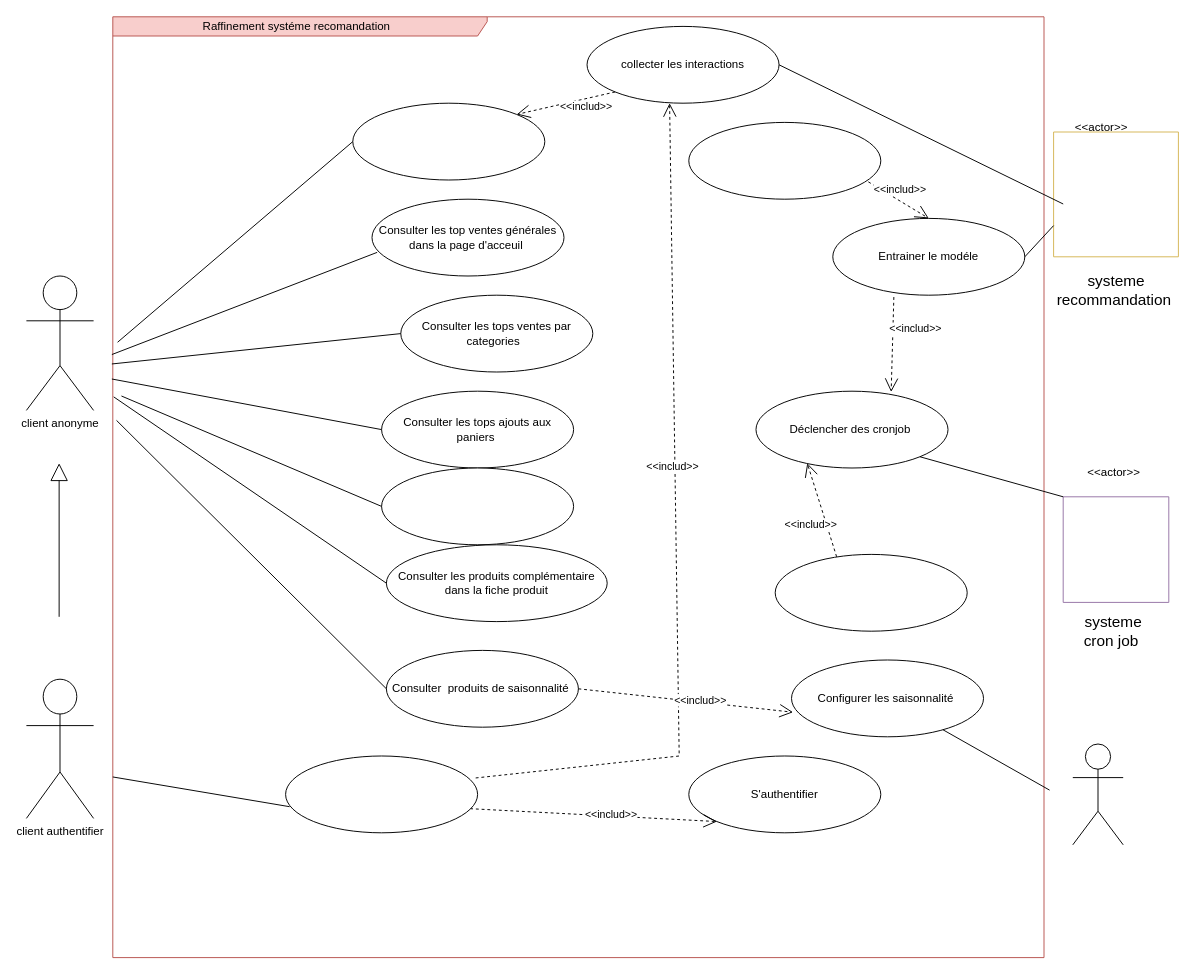
The diagram is 1195 pixels wide and 974 high, and some of its shapes have lost their labels. The shapes that lost their labels are listed below. From the top down, each one's centre as x and y in pixels, then its label:
At point 448,141: "Consulter ou acheter des produits".
At point 784,160: "Générer des recommandations".
At point 477,506: "Consulter les produits similaires dans la fiche produits".
At point 870,592: "Synchroniser les données".
At point 381,794: "Consulter top ventes personnalisés".
At point 1097,794: "Admin".
